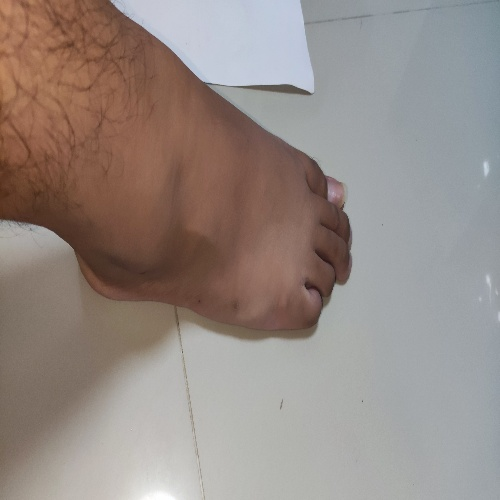3: (300, 151, 347, 209)
4: (74, 229, 146, 299)
Top_Foot: (76, 131, 354, 334)
